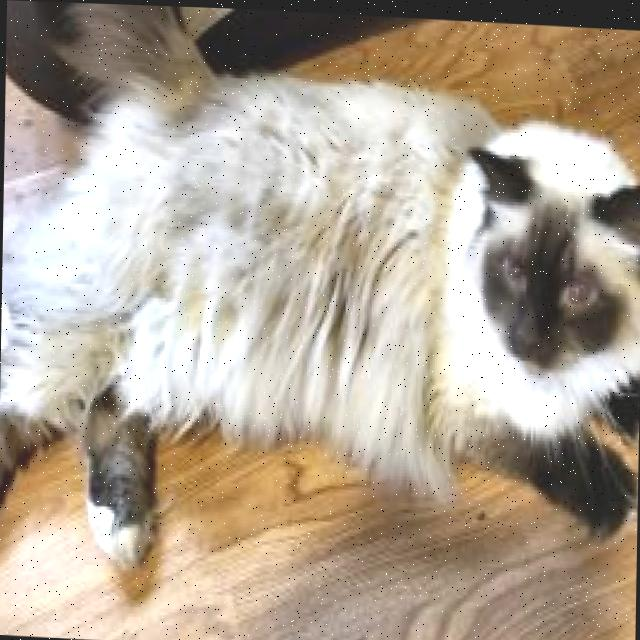Birman: (0, 47, 640, 621)
